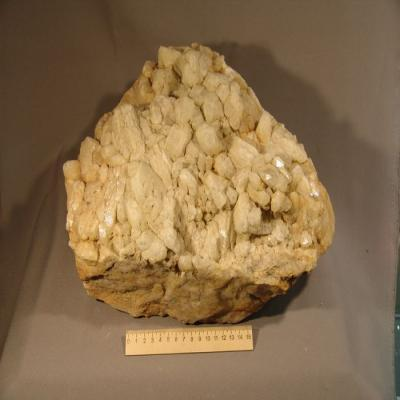mineralogy: (62, 43, 336, 325)
